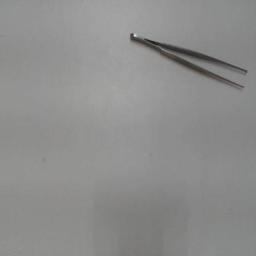Gillies Toothed Dissector: (128, 29, 250, 97)
